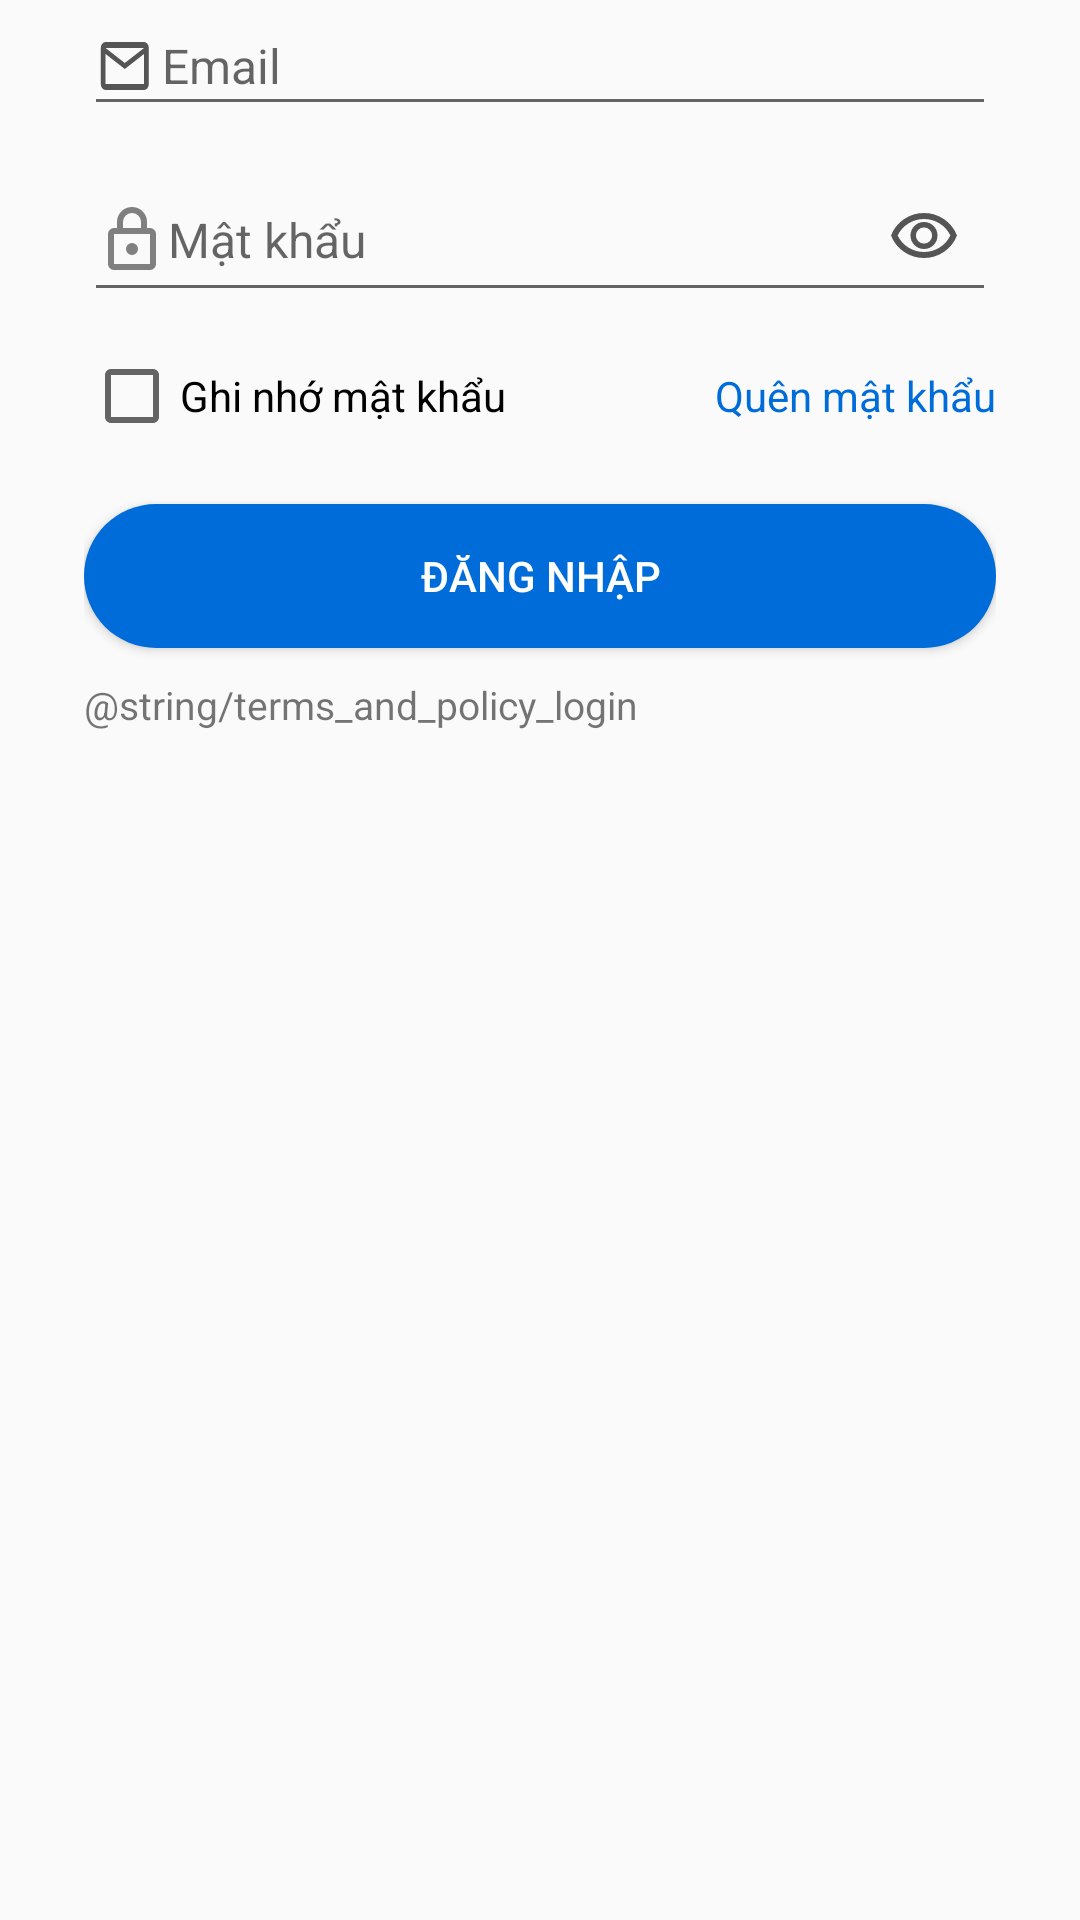

Named icons in this screenshot (1080w x 1920h) and their bounding boxes, (x1, y1, x2, y2):
visibility: (891, 213, 957, 258)
